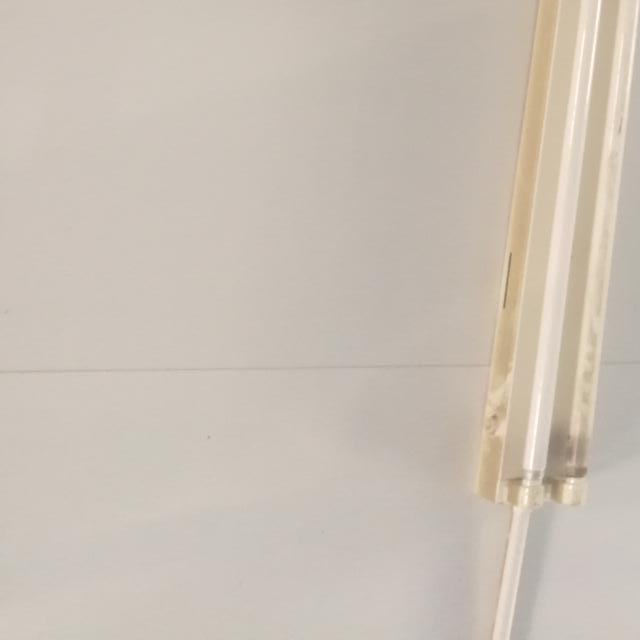fluorescent tube: (460, 0, 640, 523)
